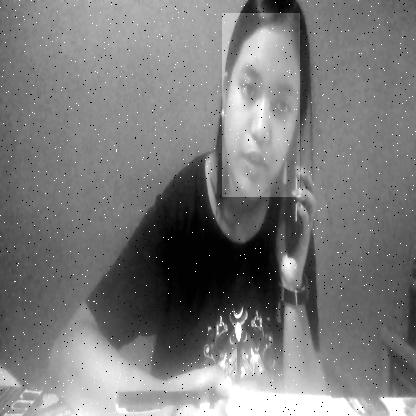Normal: (222, 13, 300, 197)
